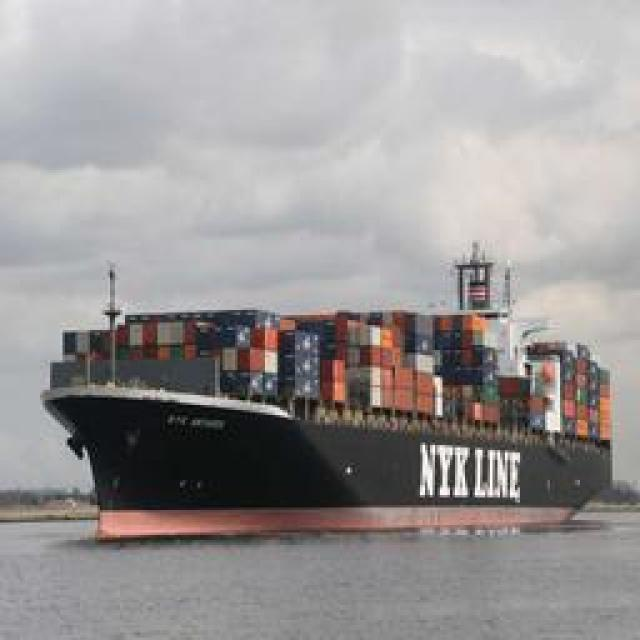CIV_Ship: (44, 240, 632, 518)
